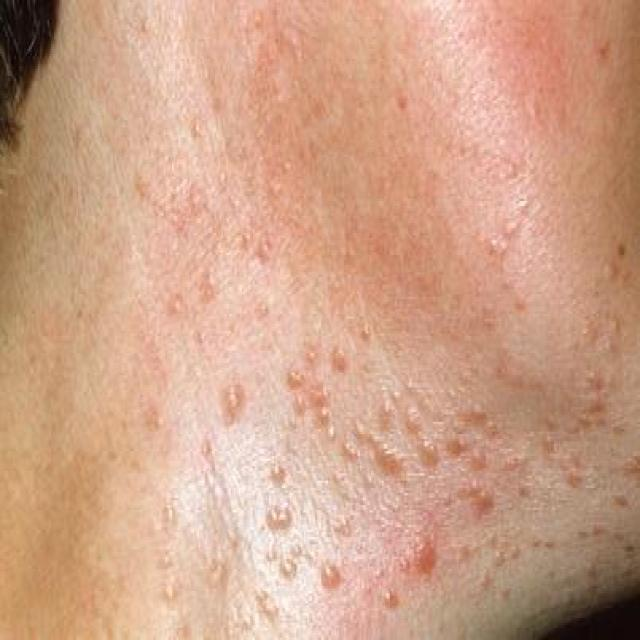fungal: (74, 72, 636, 598)
